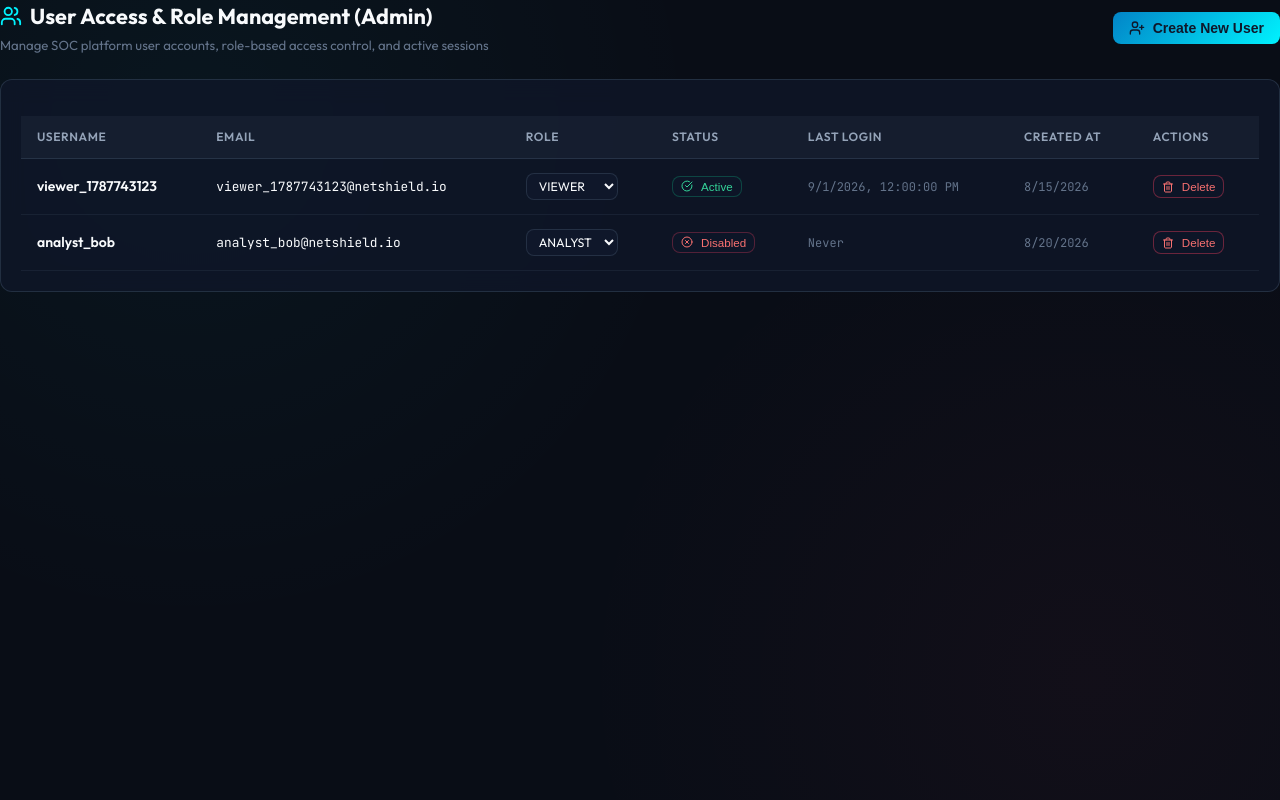
Test: UsersPage Custom Delete Confirmation Modal Suite › 9. Failed deletion keeps dialog open, shows error message, and does not crash UI
Expected: the text "viewer_1787743123" is shown, left=21, top=159, right=200, bottom=215
Click the button with aria-label "Delete user viewer_1787743123".
click(1189, 187)  # box left=1153, top=175, right=1224, bottom=198
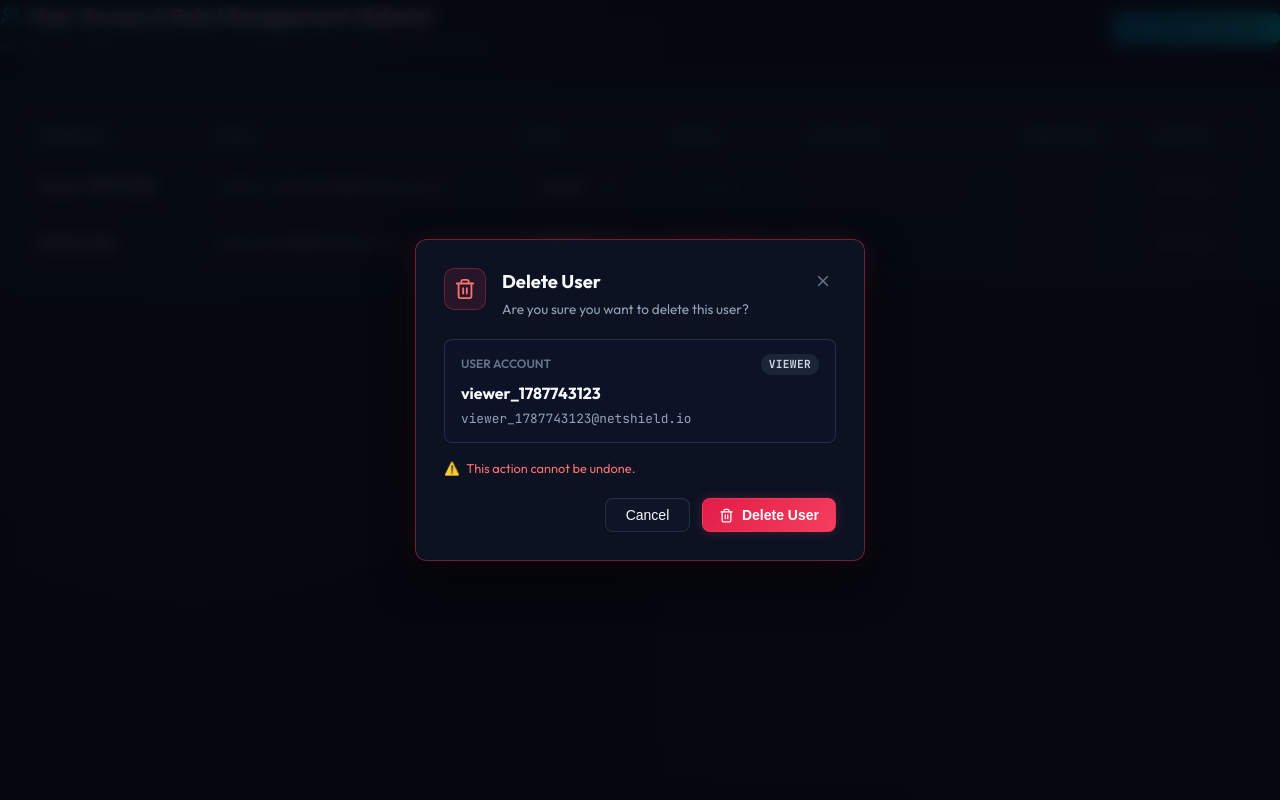
Click the button "Delete User".
click(769, 515)  # box left=702, top=498, right=836, bottom=532
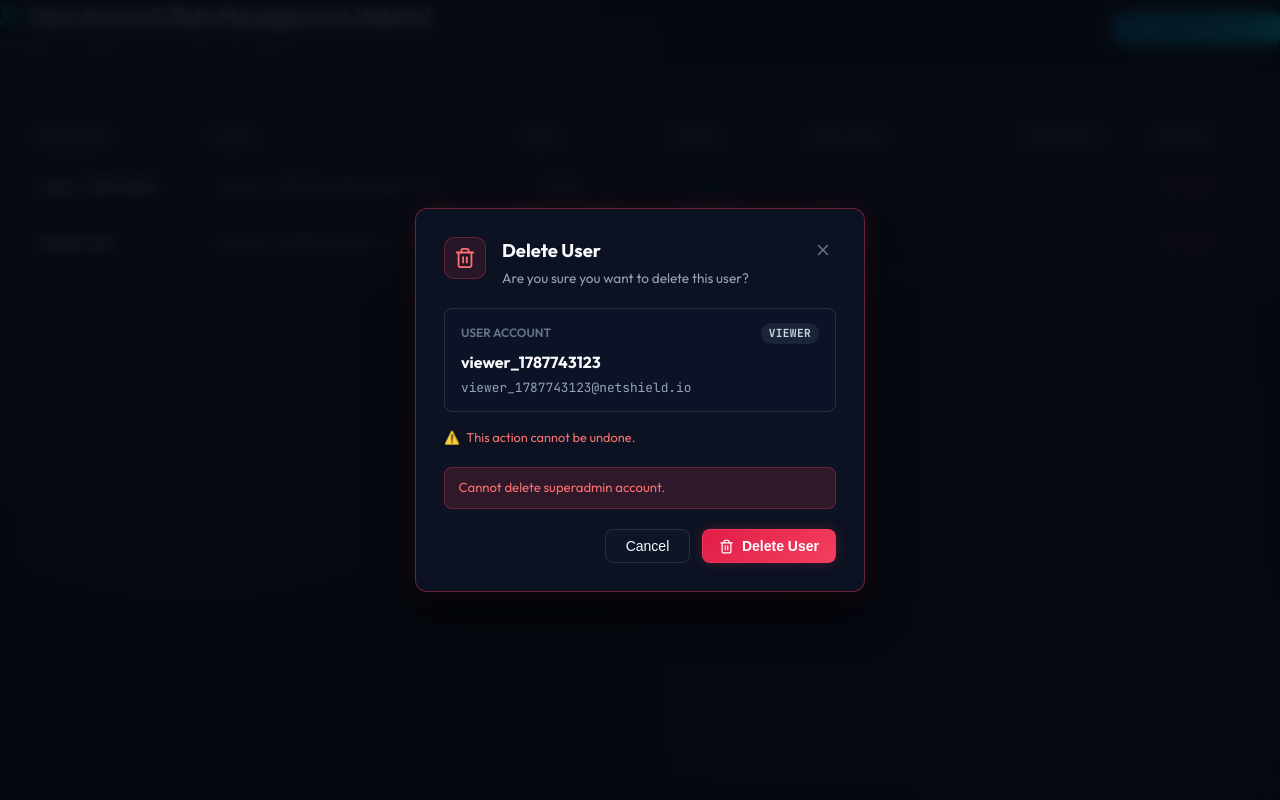
Expected: the dialog is shown, left=415, top=208, right=865, bottom=592
Expected: the message reads "Cannot delete superadmin account.", left=459, top=479, right=665, bottom=495
